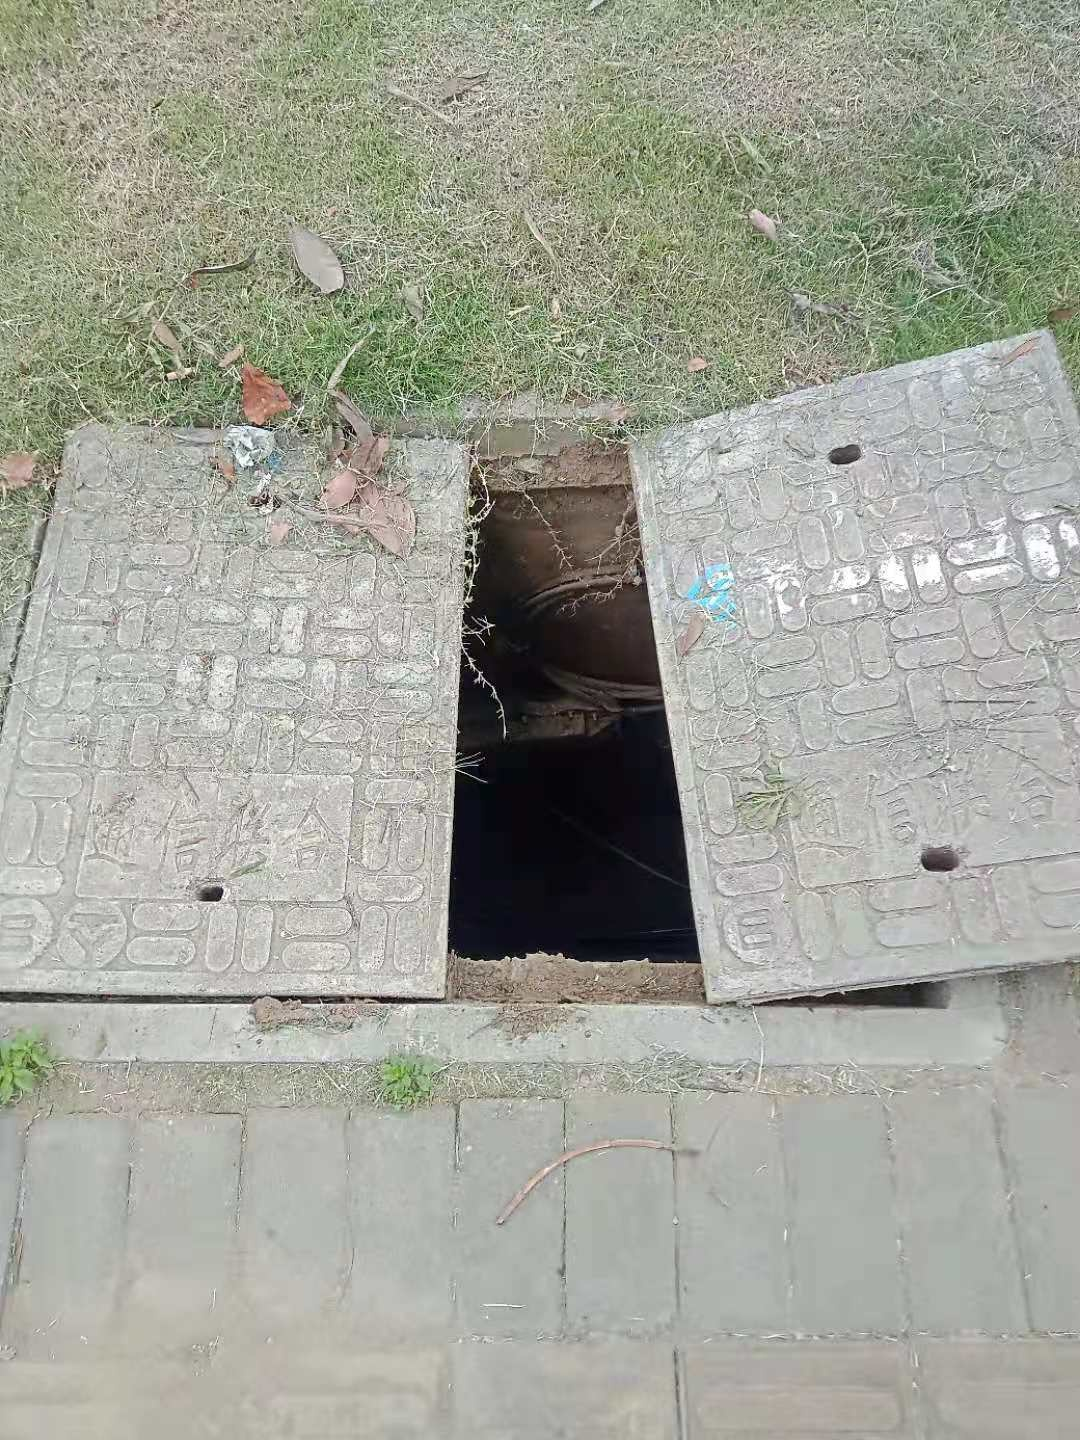uncovered: (16, 324, 1080, 1052)
